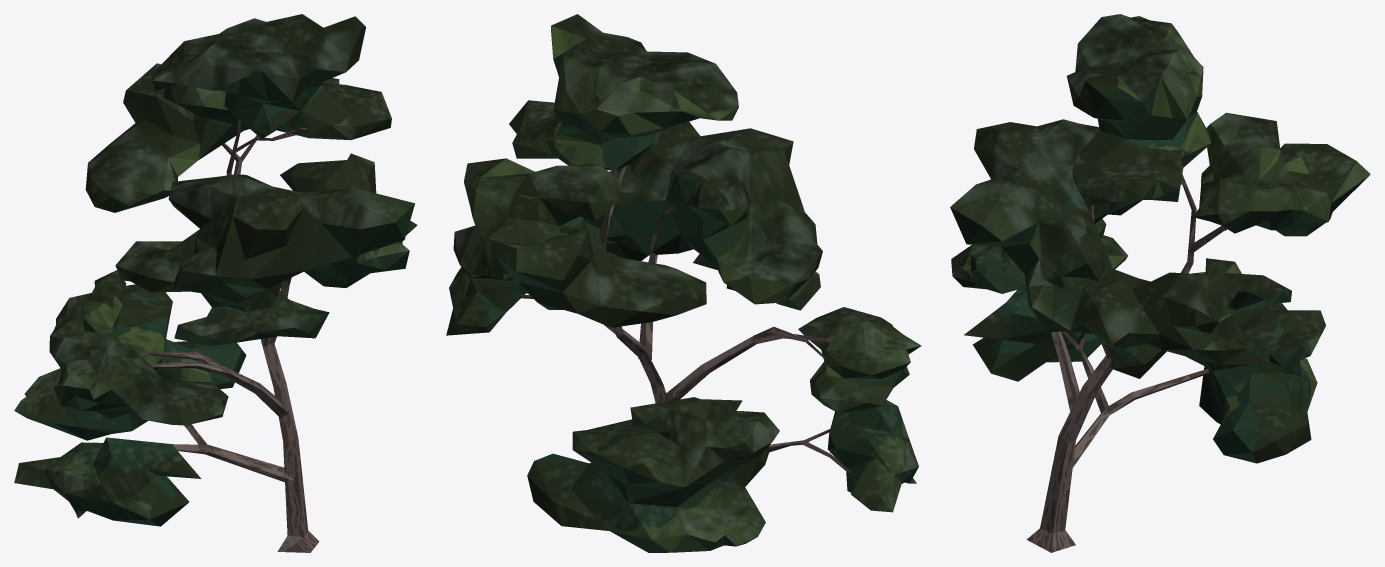
The model's file is cypress_tree_lowpoly.gltf.
3 renders of one model, left to right at view 1: azimuth 30°, elevation 25°; view 2: azimuth 150°, elevation 25°; view 3: azimuth 270°, elevation 25°, orthographic. The views are drawn at different scales.
Parts seen in each view (by area): view 1: tree; view 2: tree; view 3: tree.
Part boxes in pixels (x1,y1,x2,y2): tree: [14, 14, 417, 552]; tree: [446, 14, 921, 552]; tree: [950, 14, 1370, 552].
Bounding box in the file's own units: 1286 × 1518 × 1148.
Materials: 1 (1 with a texture image).
